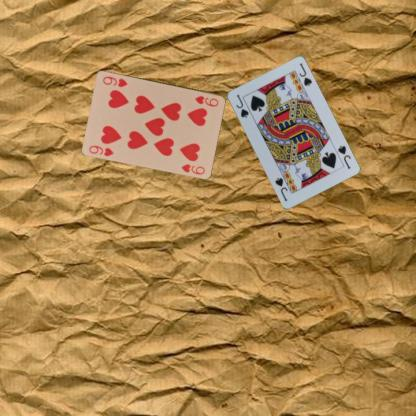9h: (192, 93, 220, 107), (87, 143, 115, 157)
Js: (233, 92, 250, 119), (335, 143, 352, 170)
